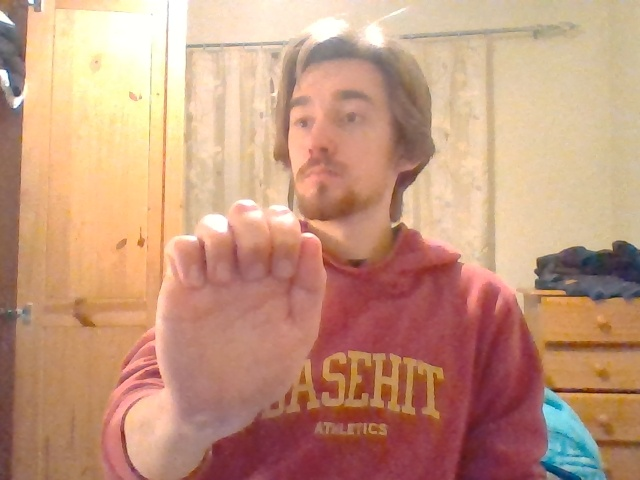your: (153, 200, 327, 406)
